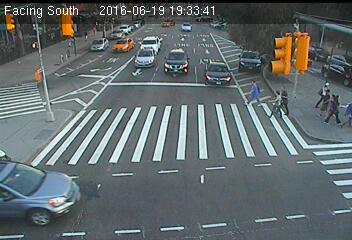neg: (201, 125, 221, 151), (229, 133, 248, 158), (264, 199, 281, 222), (40, 132, 56, 154), (27, 91, 43, 112), (255, 141, 270, 161), (282, 144, 297, 164), (311, 152, 325, 171), (138, 56, 151, 74), (152, 112, 165, 130), (221, 24, 234, 41), (25, 51, 38, 68), (105, 185, 118, 202), (303, 208, 315, 225), (111, 77, 123, 93), (255, 28, 267, 44), (198, 208, 210, 224), (170, 142, 181, 158), (288, 33, 299, 48), (94, 139, 105, 154), (154, 183, 165, 197), (7, 125, 18, 139), (206, 68, 216, 81), (230, 190, 239, 203), (106, 115, 115, 127), (136, 10, 145, 22), (86, 66, 95, 77), (15, 10, 24, 21), (66, 98, 74, 110), (128, 144, 136, 156), (191, 9, 199, 19), (166, 61, 173, 71)
pos: (308, 75, 332, 107), (324, 93, 348, 124), (263, 90, 282, 115), (278, 83, 297, 108), (246, 79, 264, 103), (81, 28, 91, 41)
